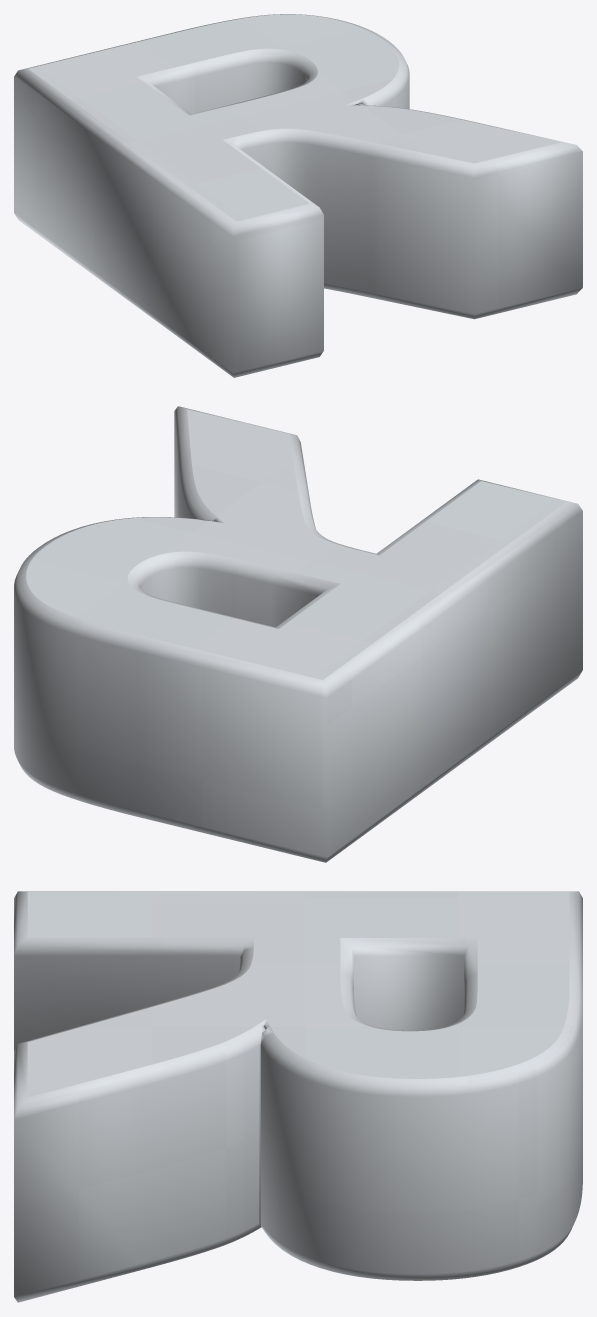
File: title_letter_01.obj
3 views of the same model, one above another, from view 1: azimuth 30°, elevation 25°; view 2: azimuth 150°, elevation 25°; view 3: azimuth 270°, elevation 25° (orthographic). The views are drawn at different scales.
Visible parts, largest first — view 1: TitleLetter01_R; view 2: TitleLetter01_R; view 3: TitleLetter01_R.
Boxes of the visible parts, <box> form: TitleLetter01_R: <box>14,14,582,377</box>; TitleLetter01_R: <box>14,406,582,862</box>; TitleLetter01_R: <box>14,891,582,1302</box>.
Size of the model in its own units: 1.03 by 0.4376 by 1.12.
Materials: 1 (1 with a texture image).
